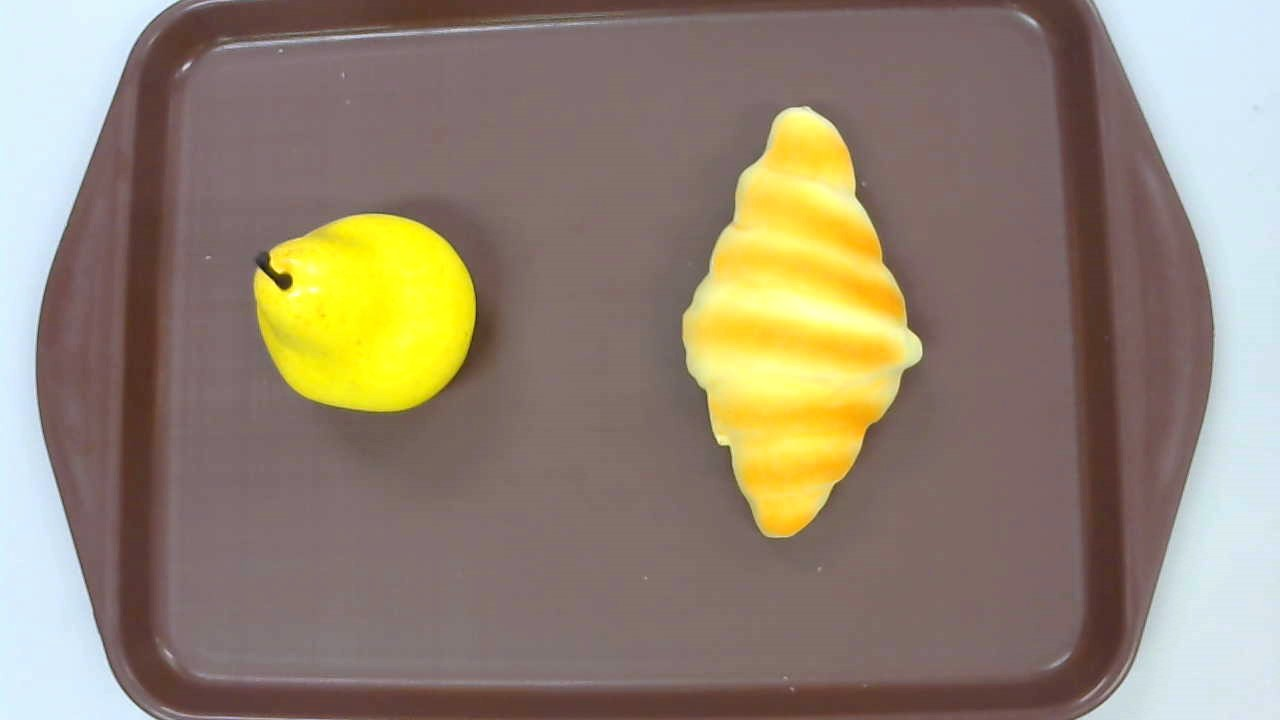croissant: (683, 105, 922, 540)
yellow pear: (252, 212, 476, 412)
